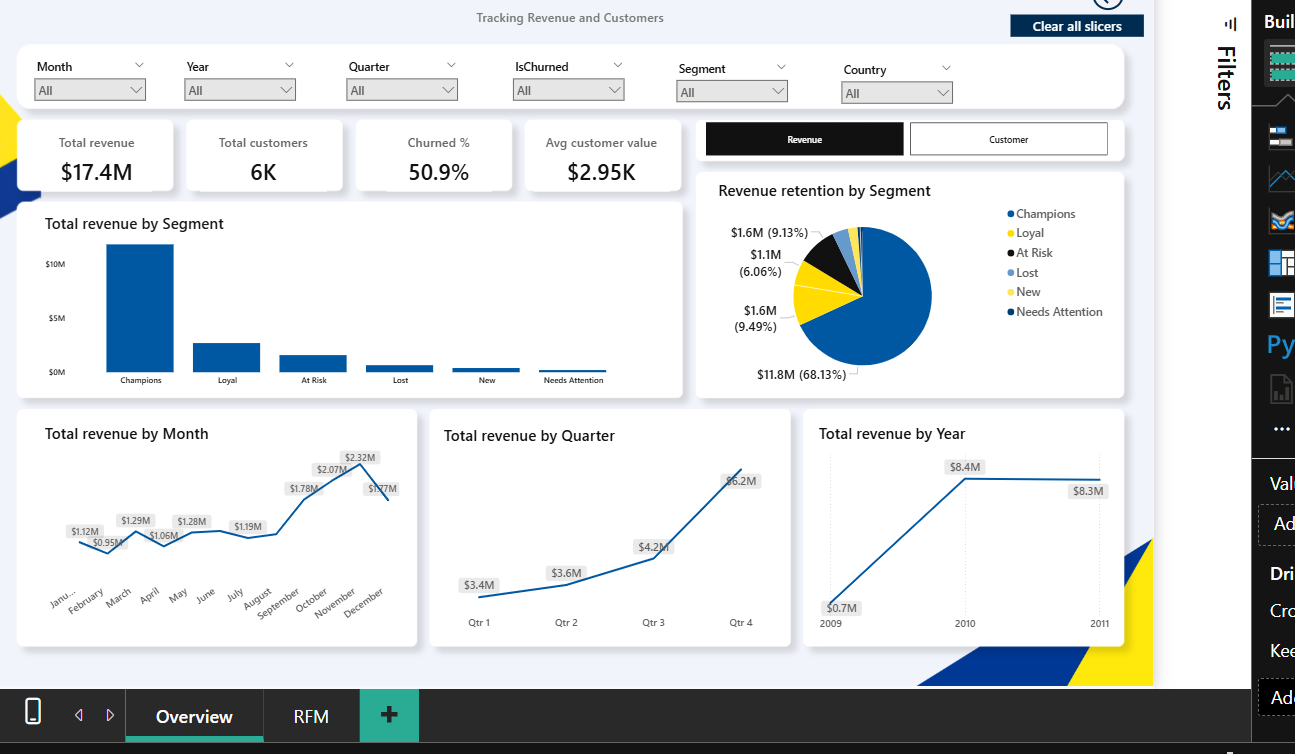

Layout of this report page (visuals, bound fields, positions):
{"tool":"powerbi","page":{"name":"Overview","canvas":[1750,1100],"ordinal":0},"visuals":[{"type":"cardVisual","fields":{"Data":["Sheet1.Total customers"]},"box":[325.2,252.9,188.4,103.2],"z":0},{"type":"columnChart","fields":{"Category":["Sheet1.Segment"],"Y":["Sheet1.Total customers"]},"box":[67.3,387.8,903.5,269],"z":0,"group":"g1"},{"type":"cardVisual","fields":{"Data":["Sheet1.Avg customer val"]},"box":[823.4,252.9,203.9,103.2],"z":1000},{"type":"columnChart","title":"Customer retention by Segment","fields":{"Y":["Sheet1.Total customers"],"Category":["Sheet1.Segment"],"Series":["Sheet1.IsChurned"]},"box":[1071.7,338.5,616.5,318.3],"z":1000,"group":"g1"},{"type":"cardVisual","fields":{"Data":["Sheet1.Total revenue"]},"box":[87.8,252.9,165.2,103.2],"z":2000},{"type":"lineChart","fields":{"Y":["Sheet1.Total customers"],"Category":["Sheet1.InvoiceDate.Variation.Date Hierarchy.Month"]},"box":[87.5,701.7,538.1,316.1],"z":2000,"group":"g1"},{"type":"cardVisual","fields":{"Data":["Sheet1.Churned %"]},"box":[604,252.9,157.4,103.2],"z":3000},{"type":"lineChart","fields":{"Y":["Sheet1.Total customers"],"Category":["Sheet1.InvoiceDate.Variation.Date Hierarchy.Quarter"]},"box":[683.8,701.7,504.4,316.1],"z":3000,"group":"g1"},{"type":"slicer","fields":{"Values":["Sheet1.InvoiceDate.Variation.Date Hierarchy.Month"]},"box":[67.1,152.3,185.8,74.9],"z":4000},{"type":"lineChart","fields":{"Y":["Sheet1.Total customers"],"Category":["Sheet1.InvoiceDate.Variation.Date Hierarchy.Year"]},"box":[1237.6,699.4,443.9,318.3],"z":4000,"group":"g1"},{"type":"slicer","fields":{"Values":["Sheet1.InvoiceDate.Variation.Date Hierarchy.Year"]},"box":[291.7,152.3,185.8,74.9],"z":5000},{"type":"slicer","fields":{"Values":["Sheet1.InvoiceDate.Variation.Date Hierarchy.Quarter"]},"box":[534.3,152.3,185.8,74.9],"z":6000},{"type":"slicer","fields":{"Values":["Sheet1.IsChurned"]},"box":[782.1,152.3,185.8,74.9],"z":7000},{"type":"slicer","fields":{"Values":["Sheet1.Segment"]},"box":[1027.3,154.9,185.8,74.9],"z":8000},{"type":"slicer","fields":{"Values":["Sheet1.Country"]},"box":[1272.5,157.4,185.8,74.9],"z":9000},{"type":"group","id":"g1","title":"Customer","box":[67.3,338.5,1620.9,679.3],"z":11000},{"type":"bookmarkNavigator","box":[1080.6,253.3,600.8,49.3],"z":12000},{"type":"textbox","box":[535.8,0,683.8,125.5],"z":13000},{"type":"actionButton","box":[1611.9,31.4,139,60.5],"z":14000},{"type":"actionButton","box":[1535.7,91.9,199.5,33.6],"z":15000}]}

Visuals, with their boxes on the page's 1750x1100 design canvas (x1, y1, x2, y2). These are canvas units, not pixel positions in the 1295x754 screenshot, which may show the page scaled, cropped or inside an application window:
cardVisual - Sheet1.Total customers: {"x1": 325, "y1": 253, "x2": 514, "y2": 356}
columnChart - Sheet1.Segment x Sheet1.Total customers: {"x1": 67, "y1": 388, "x2": 971, "y2": 657}
cardVisual - Sheet1.Avg customer val: {"x1": 823, "y1": 253, "x2": 1027, "y2": 356}
"Customer retention by Segment" columnChart: {"x1": 1072, "y1": 338, "x2": 1688, "y2": 657}
cardVisual - Sheet1.Total revenue: {"x1": 88, "y1": 253, "x2": 253, "y2": 356}
lineChart - Sheet1.Total customers x Sheet1.InvoiceDate.Variation.Date Hierarchy.Month: {"x1": 88, "y1": 702, "x2": 626, "y2": 1018}
cardVisual - Sheet1.Churned %: {"x1": 604, "y1": 253, "x2": 761, "y2": 356}
lineChart - Sheet1.Total customers x Sheet1.InvoiceDate.Variation.Date Hierarchy.Quarter: {"x1": 684, "y1": 702, "x2": 1188, "y2": 1018}
slicer - Sheet1.InvoiceDate.Variation.Date Hierarchy.Month: {"x1": 67, "y1": 152, "x2": 253, "y2": 227}
lineChart - Sheet1.Total customers x Sheet1.InvoiceDate.Variation.Date Hierarchy.Year: {"x1": 1238, "y1": 699, "x2": 1682, "y2": 1018}
slicer - Sheet1.InvoiceDate.Variation.Date Hierarchy.Year: {"x1": 292, "y1": 152, "x2": 478, "y2": 227}
slicer - Sheet1.InvoiceDate.Variation.Date Hierarchy.Quarter: {"x1": 534, "y1": 152, "x2": 720, "y2": 227}
slicer - Sheet1.IsChurned: {"x1": 782, "y1": 152, "x2": 968, "y2": 227}
slicer - Sheet1.Segment: {"x1": 1027, "y1": 155, "x2": 1213, "y2": 230}
slicer - Sheet1.Country: {"x1": 1272, "y1": 157, "x2": 1458, "y2": 232}
"Customer" group: {"x1": 67, "y1": 338, "x2": 1688, "y2": 1018}
bookmarkNavigator: {"x1": 1081, "y1": 253, "x2": 1681, "y2": 303}
textbox: {"x1": 536, "y1": 0, "x2": 1220, "y2": 126}
actionButton: {"x1": 1612, "y1": 31, "x2": 1751, "y2": 92}
actionButton: {"x1": 1536, "y1": 92, "x2": 1735, "y2": 126}
